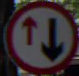Two way: (10, 12, 71, 66)
